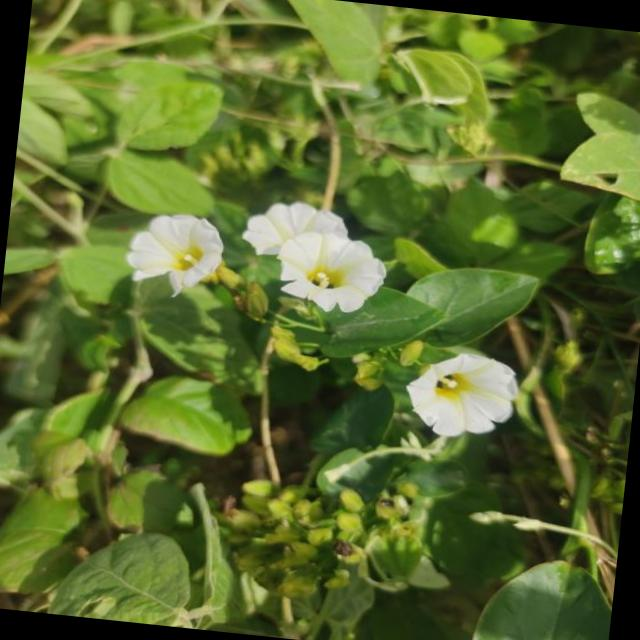ipomoea: (397, 344, 525, 446), (266, 225, 393, 320), (117, 206, 232, 304), (236, 192, 354, 268)
